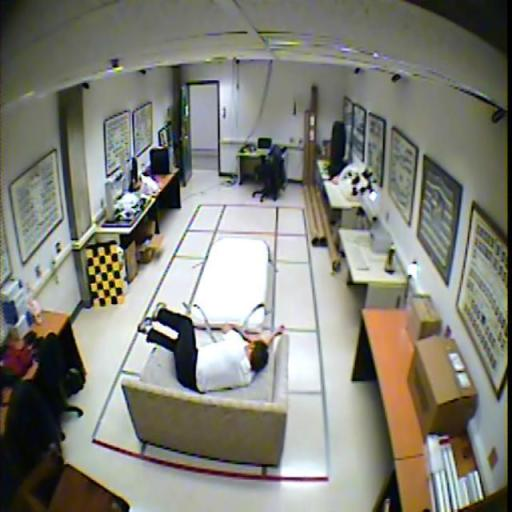Fall: (138, 301, 286, 394)
